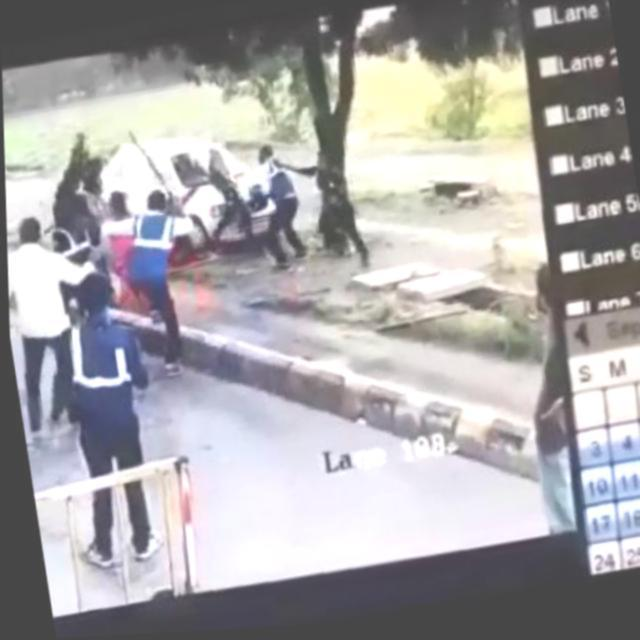fight: (197, 132, 328, 286)
